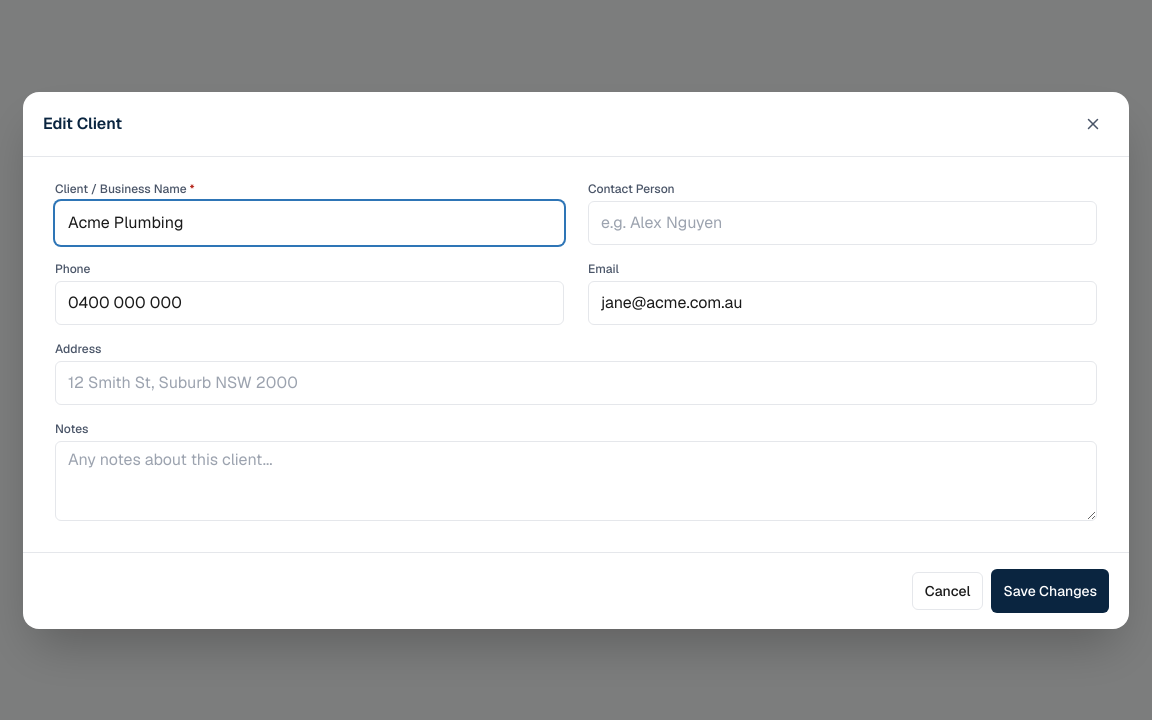
Test case: ClientForm field validation › shows an inline miss when client update writes 0 rows and does not treat it as saved
Click the button "Save Changes" at x=1050, y=590, box [991, 568, 1109, 612]
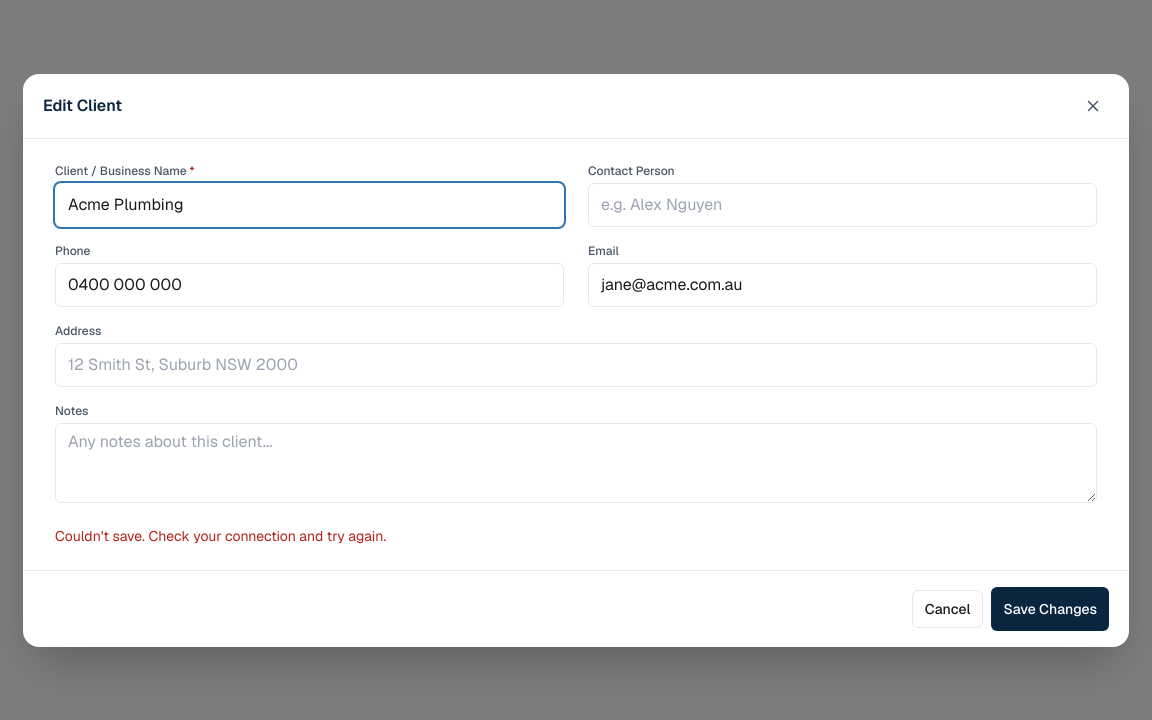
Expected: the text "Couldn't save. Check your connection and try again." is shown, [55, 526, 386, 544]
